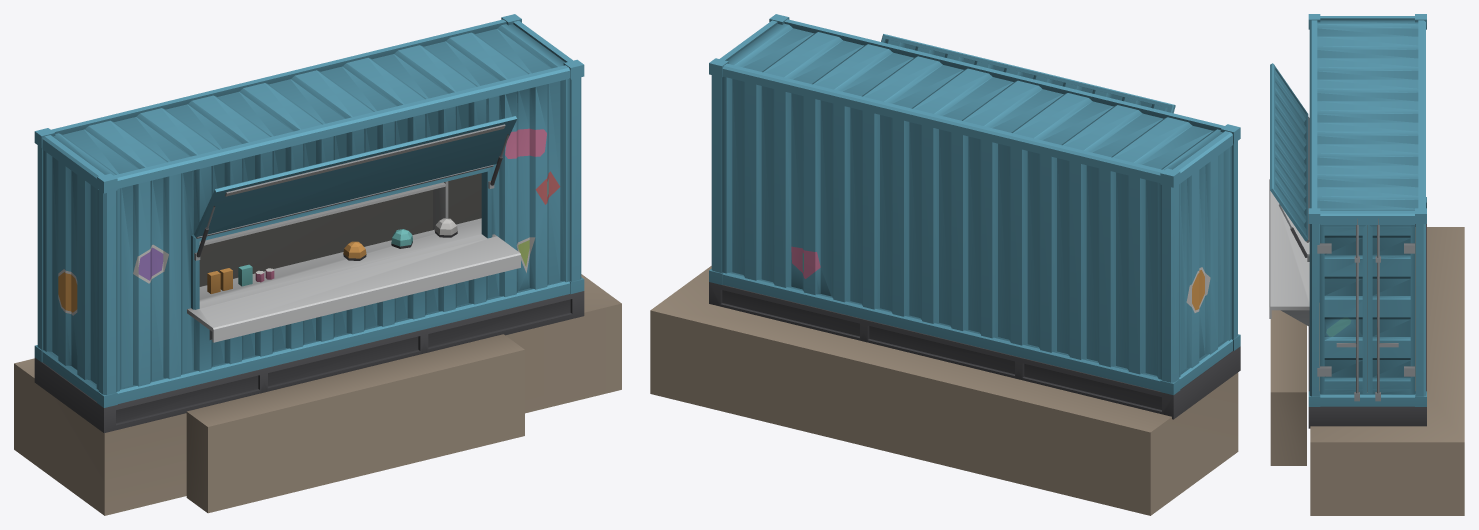
The model's file is snackbox.glb.
3 views of the same model, side by side, from view 1: azimuth 30°, elevation 25°; view 2: azimuth 150°, elevation 25°; view 3: azimuth 270°, elevation 25° (orthographic). The views are drawn at different scales.
Visible parts, largest first — view 1: snackbox; view 2: snackbox; view 3: snackbox.
Boxes of the visible parts, <box> form: snackbox: <box>14,14,621,515</box>; snackbox: <box>650,14,1240,515</box>; snackbox: <box>1269,14,1464,515</box>.
Bounding box in the file's own units: 6.48 × 4 × 2.48.
